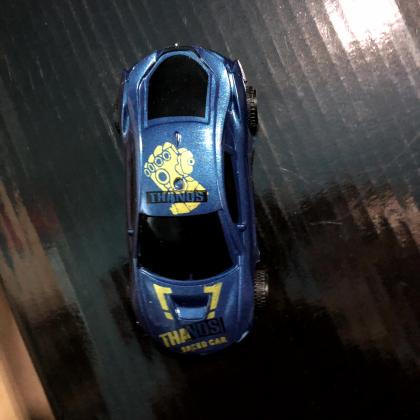Car: (117, 45, 260, 360)
